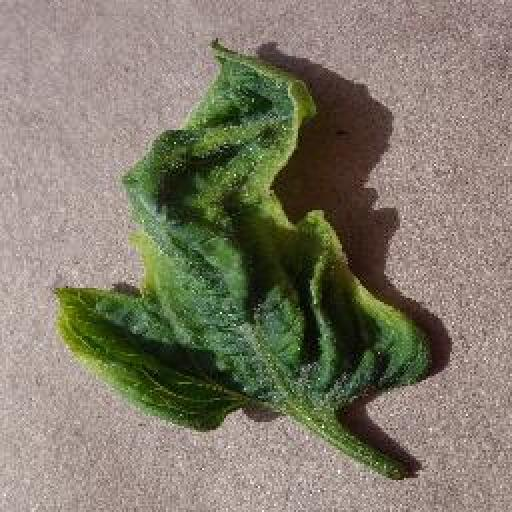disease_tomato: (57, 36, 431, 434)
